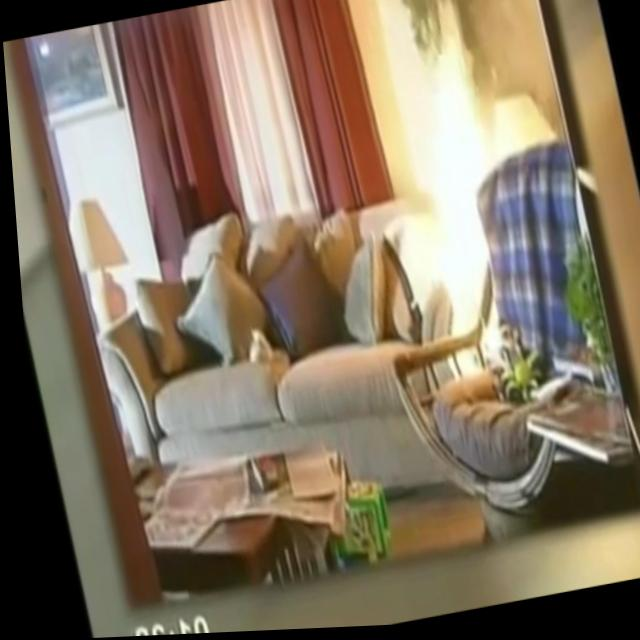fire: (351, 0, 537, 379)
